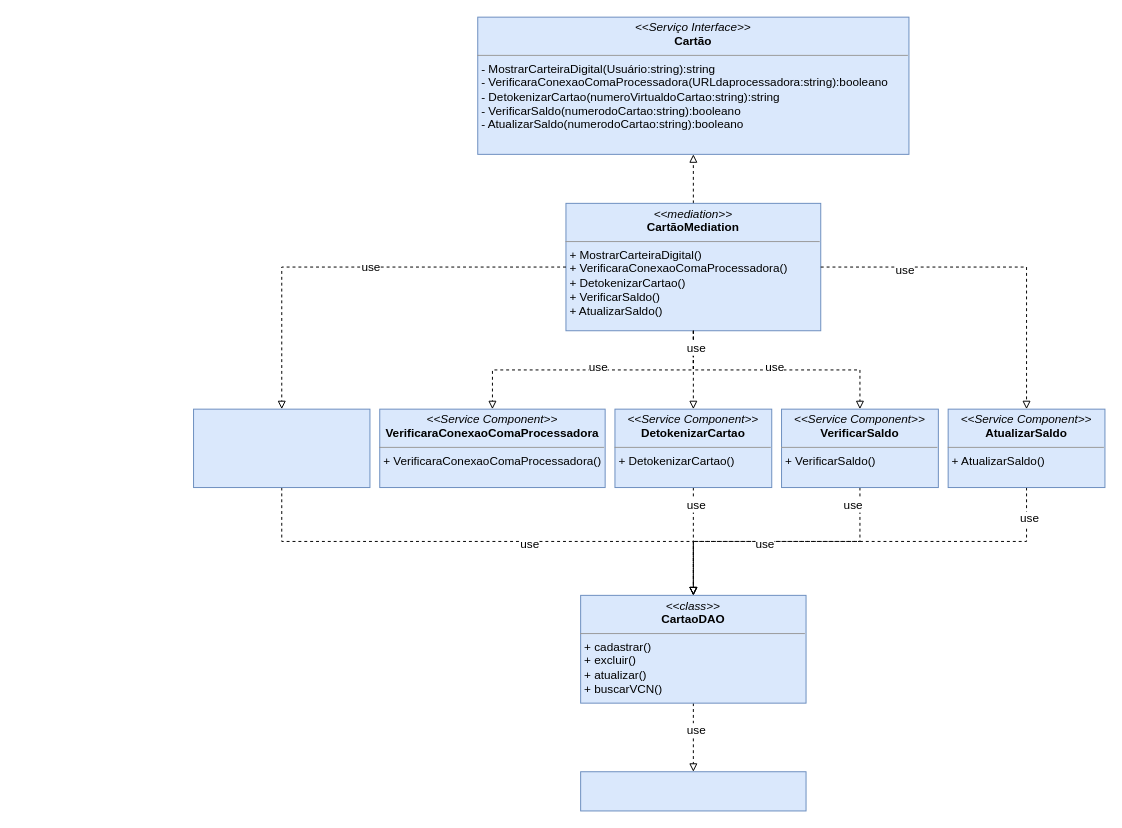
The diagram is 1122 pixels wide and 828 high, and some of its shapes have lost their labels. The centre of each missing label's shape, as x and y in pixels:
"<<Service Component>> MostrarCarteiraDigital + MostrarCarteiraDigital()" belongs at pixel 281 448.
"Banco de Dados" belongs at pixel 693 791.
